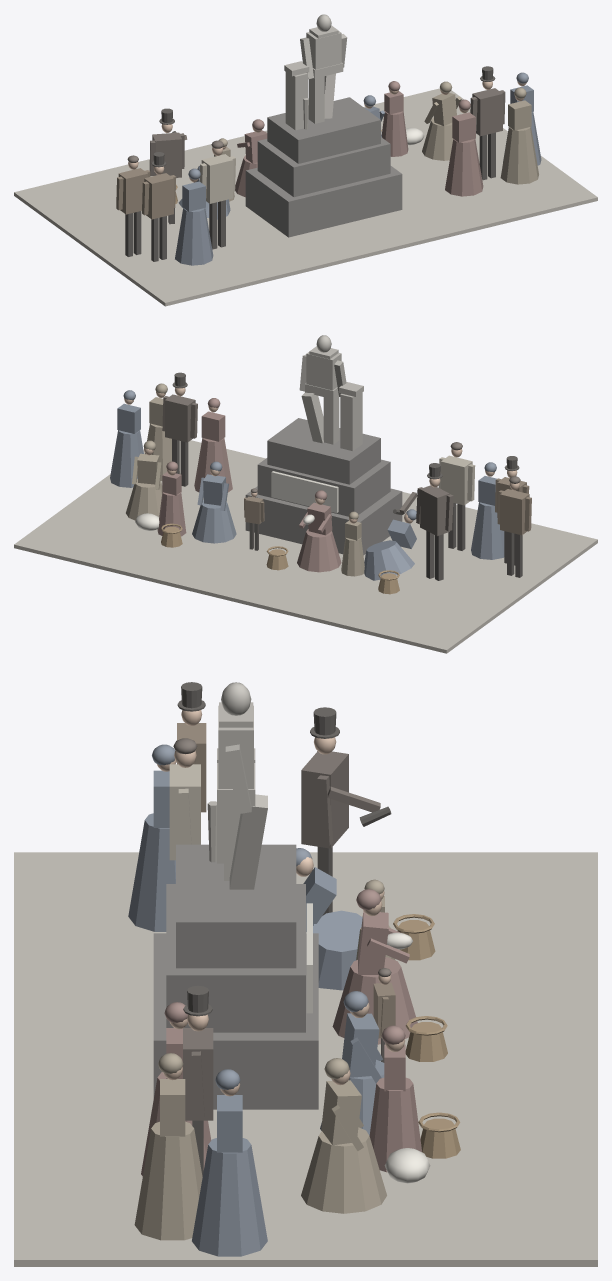
Rendered from scan-fig47-dinner-time-muse.glb.
3 views of the same model, one above another, from view 1: azimuth 30°, elevation 25°; view 2: azimuth 150°, elevation 25°; view 3: azimuth 270°, elevation 25° (orthographic). The views are drawn at different scales.
Parts seen in each view (by area): view 1: Floor, PlinthBase, PlinthMid, PlinthTop, bgSkirt.002, bgSkirt.001, bgSkirt, coat.003, coat.004, SBookPost, coat.002, STrunk (+13 smaller); view 2: Floor, PlinthTop, PlinthBase, PlinthMid, Tablet, bgSkirt, skirt, ReclineSkirt, skirt.001, bgSkirt.003, SBookPost, coat (+19 smaller); view 3: Floor, PlinthTop, PlinthBase, PlinthMid, bgSkirt.003, bgSkirt.002, skirt.002, bgSkirt, cskirt.001, coat, ReclineSkirt, skirt (+25 smaller).
Boxes of the visible parts, x1=… form: Floor: x1=14, y1=88, x2=597, y2=306; PlinthBase: x1=245, y1=166, x2=402, y2=237; PlinthMid: x1=257, y1=137, x2=390, y2=197; PlinthTop: x1=267, y1=97, x2=380, y2=163; bgSkirt.002: x1=500, y1=127, x2=538, y2=184; bgSkirt.001: x1=445, y1=139, x2=483, y2=196; bgSkirt: x1=175, y1=208, x2=213, y2=265; coat.003: x1=201, y1=154, x2=233, y2=203; coat.004: x1=472, y1=88, x2=502, y2=136; SBookPost: x1=285, y1=72, x2=307, y2=130; coat.002: x1=144, y1=173, x2=173, y2=219; STrunk: x1=306, y1=31, x2=341, y2=69; Floor: x1=14, y1=440, x2=597, y2=653; PlinthTop: x1=267, y1=418, x2=380, y2=484; PlinthBase: x1=245, y1=486, x2=402, y2=555; PlinthMid: x1=257, y1=458, x2=390, y2=516; Tablet: x1=271, y1=471, x2=338, y2=512; bgSkirt: x1=471, y1=502, x2=504, y2=559; skirt: x1=297, y1=529, x2=341, y2=572; ReclineSkirt: x1=364, y1=540, x2=414, y2=580; skirt.001: x1=192, y1=500, x2=236, y2=543; bgSkirt.003: x1=110, y1=430, x2=143, y2=487; SBookPost: x1=340, y1=392, x2=362, y2=451; coat: x1=420, y1=485, x2=449, y2=535; Floor: x1=14, y1=852, x2=597, y2=1266; PlinthTop: x1=176, y1=844, x2=296, y2=968; PlinthBase: x1=153, y1=933, x2=318, y2=1109; PlinthMid: x1=166, y1=884, x2=305, y2=1032; bgSkirt.003: x1=192, y1=1138, x2=267, y2=1256; bgSkirt.002: x1=134, y1=1121, x2=202, y2=1240; skirt.002: x1=301, y1=1127, x2=386, y2=1213; bgSkirt: x1=128, y1=813, x2=175, y2=931; cskirt.001: x1=369, y1=1077, x2=421, y2=1172; coat: x1=301, y1=751, x2=348, y2=848; ReclineSkirt: x1=313, y1=910, x2=362, y2=990; skirt: x1=332, y1=957, x2=417, y2=1044.
Bounding box in the file's own units: 7.6 × 3.36 × 4.6.
